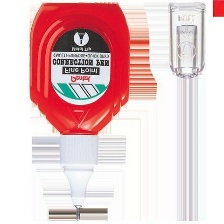correction_fluid: (27, 0, 133, 222)
